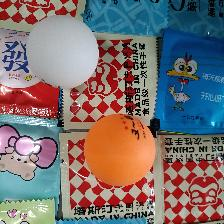WhiteBall: (25, 15, 98, 88)
YellowBall: (84, 113, 156, 186)
